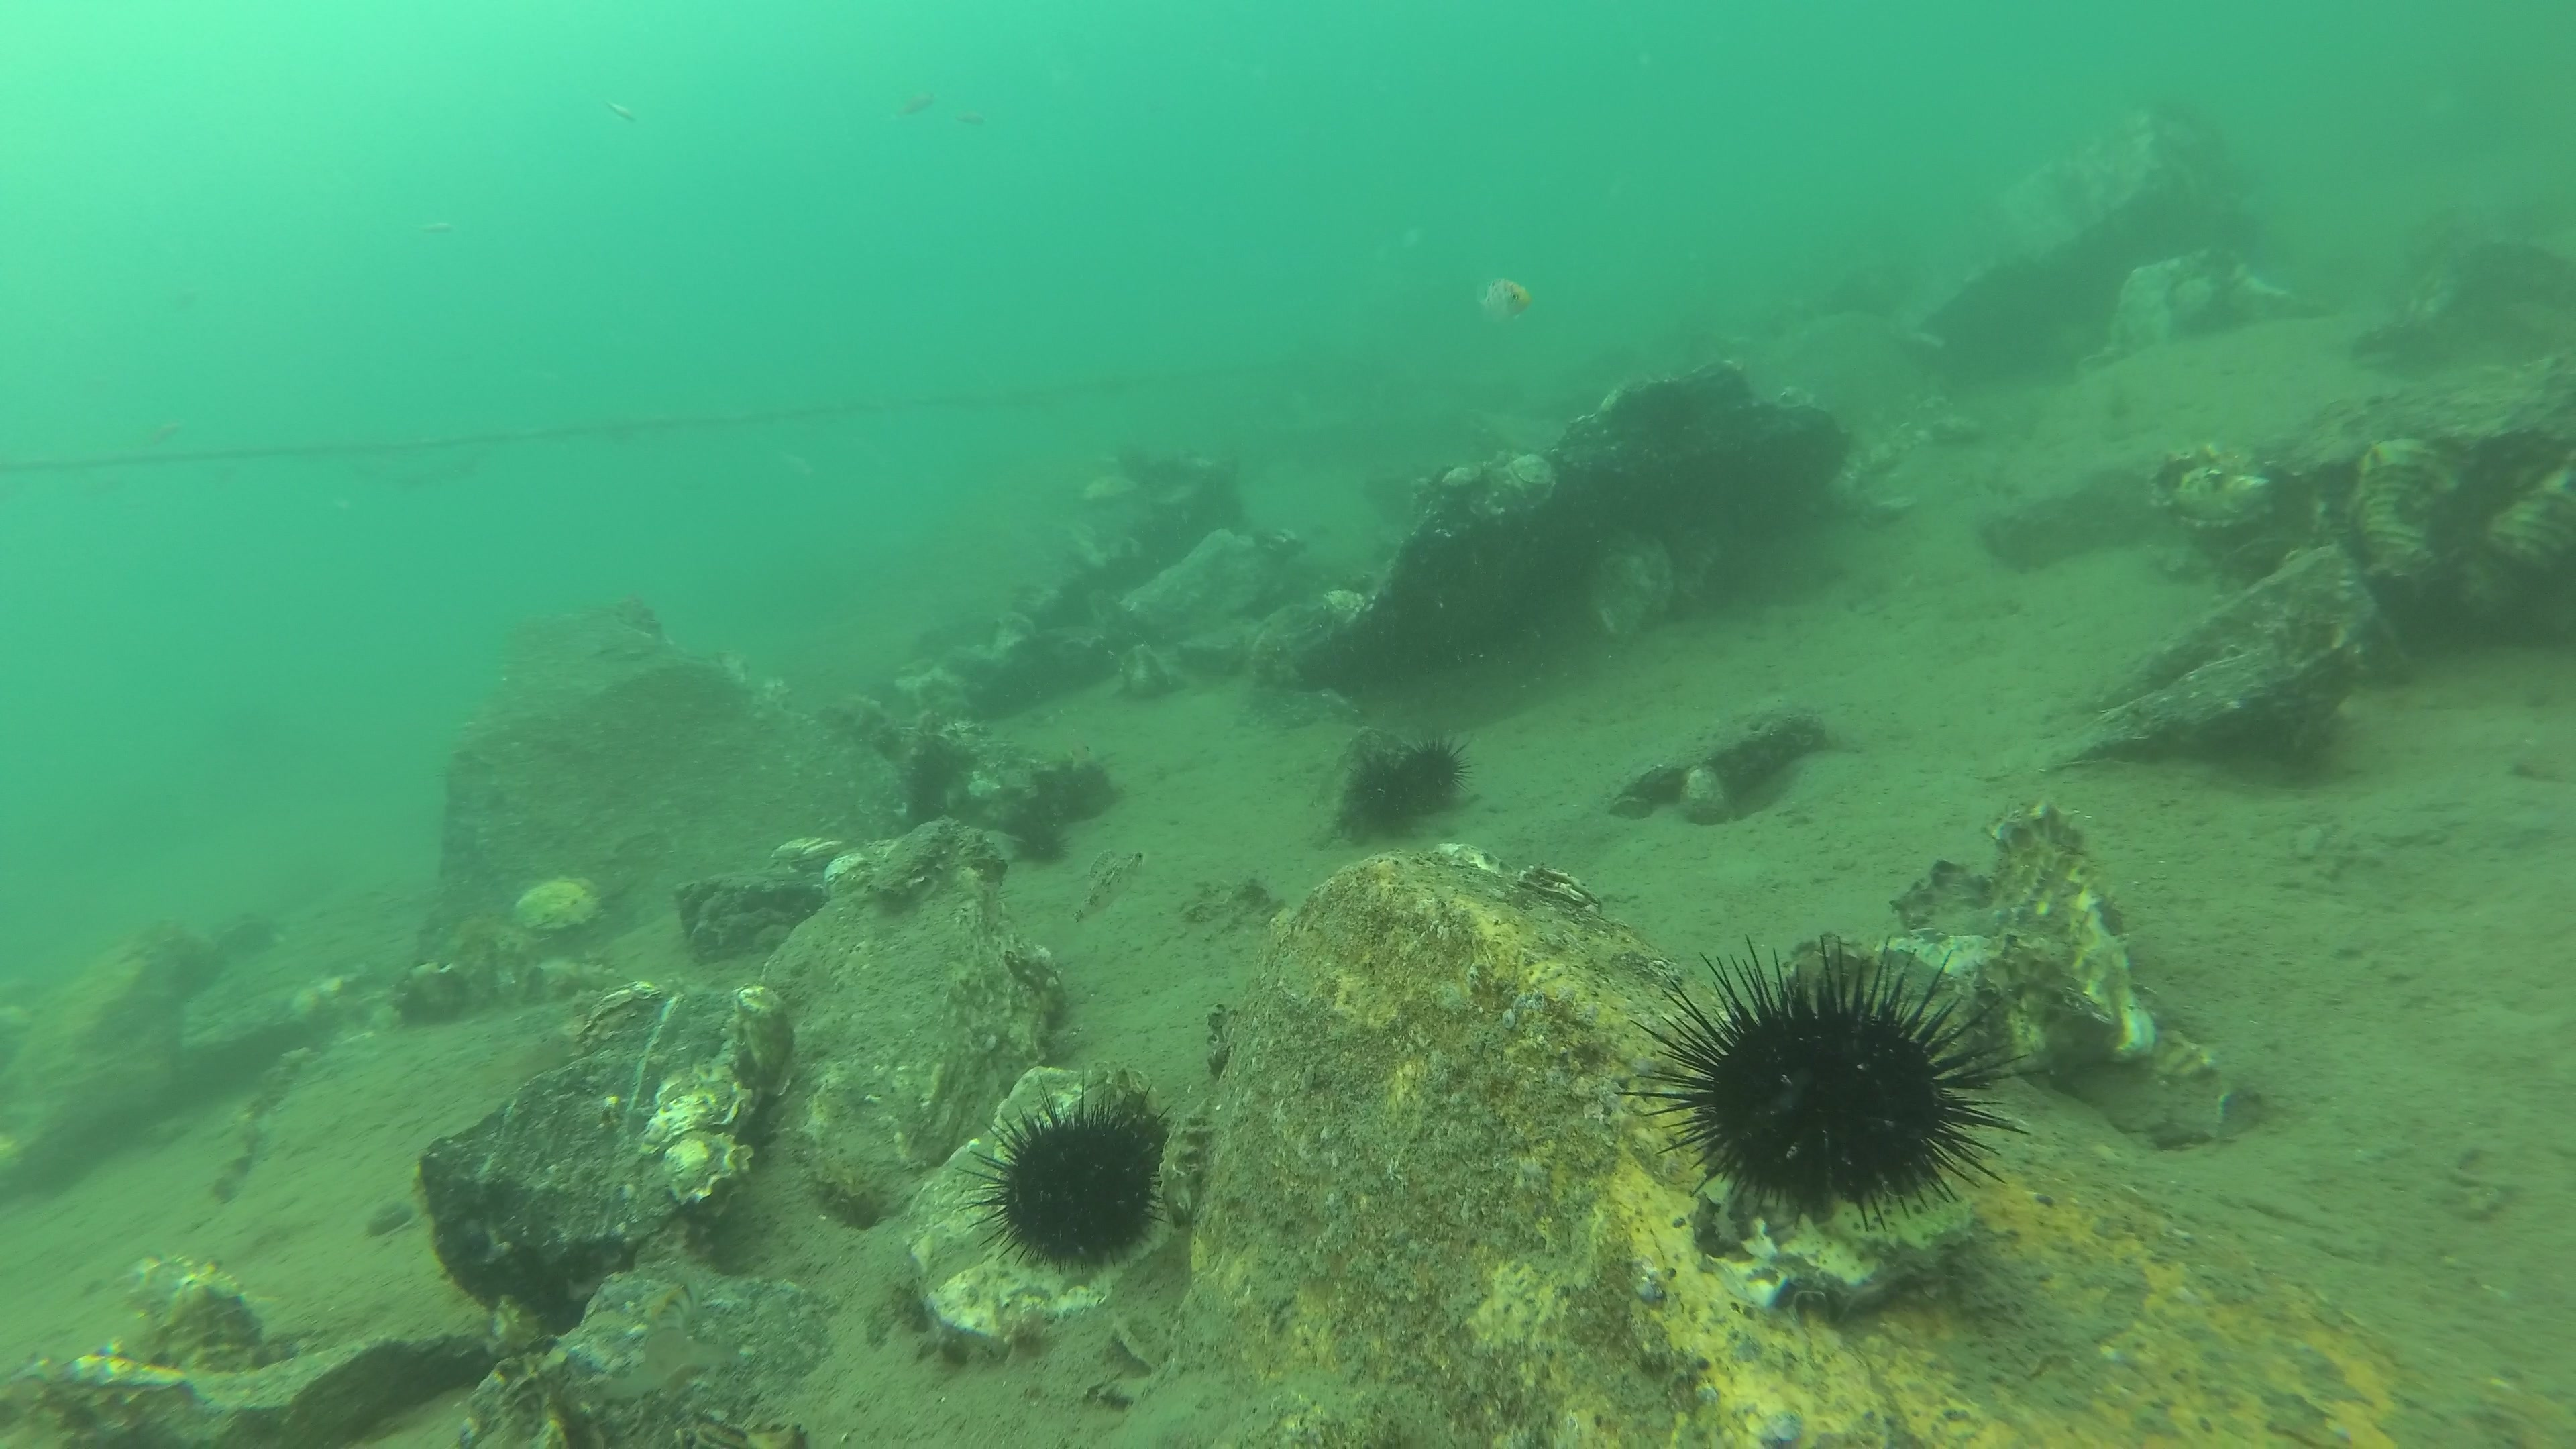echinus: (1610, 929, 2038, 1237), (950, 1083, 1177, 1267), (1405, 727, 1476, 809), (1346, 752, 1419, 830), (1635, 375, 1695, 439), (1016, 823, 1072, 863)
